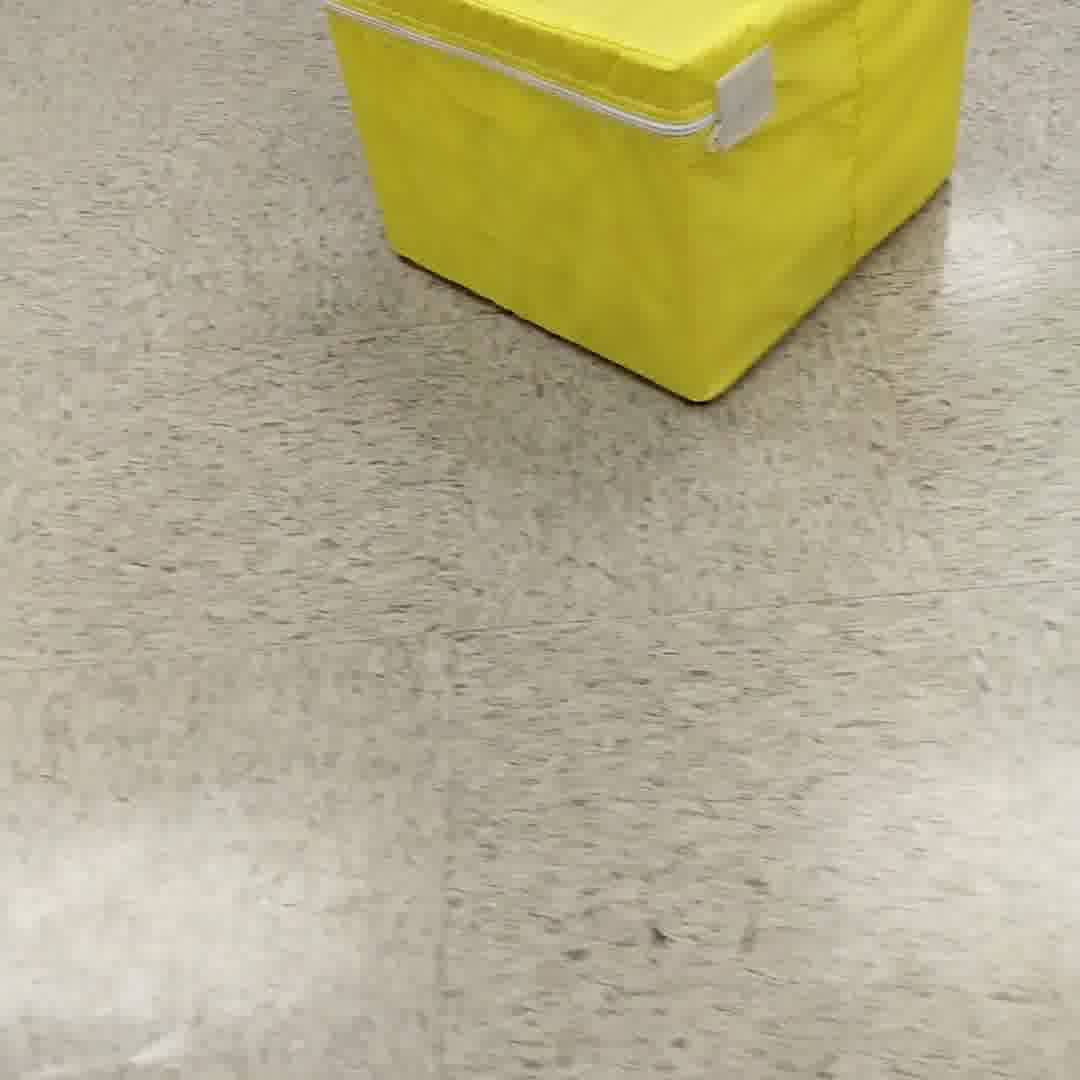box: (324, 7, 953, 413)
